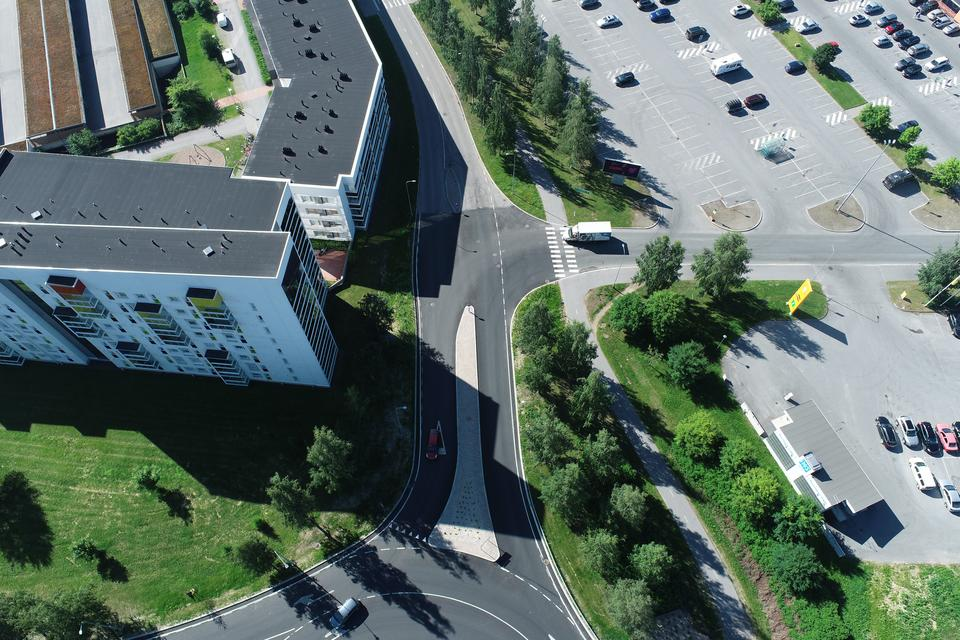intersection: (396, 207, 607, 323)
roundabout: (205, 509, 618, 640)
